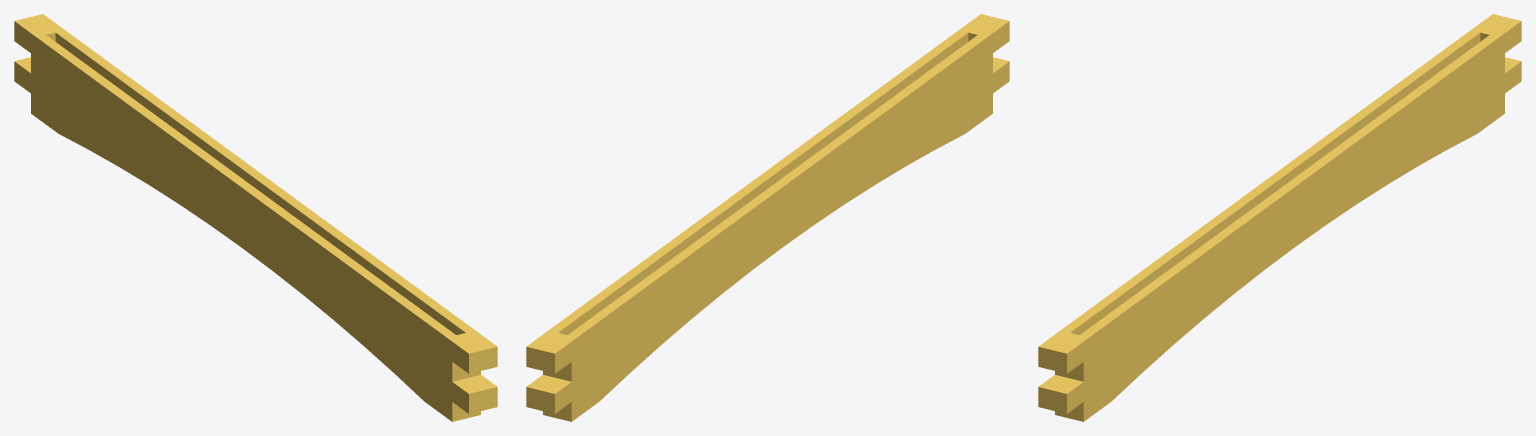
File: original-19.obj
3 views of the same model, side by side, from view 1: azimuth 30°, elevation 25°; view 2: azimuth 150°, elevation 25°; view 3: azimuth 330°, elevation 25° (orthographic).
Parts seen in each view (by area): view 1: side_bottom2/side_bottom/mesh4/mesh4-geometry#mesh4-geometry; view 2: side_bottom2/side_bottom/mesh4/mesh4-geometry#mesh4-geometry; view 3: side_bottom2/side_bottom/mesh4/mesh4-geometry#mesh4-geometry.
Boxes of the visible parts, bbox=[...] form: side_bottom2/side_bottom/mesh4/mesh4-geometry#mesh4-geometry: bbox=[14, 14, 497, 421]; side_bottom2/side_bottom/mesh4/mesh4-geometry#mesh4-geometry: bbox=[526, 14, 1009, 421]; side_bottom2/side_bottom/mesh4/mesh4-geometry#mesh4-geometry: bbox=[1038, 14, 1521, 421].
Size of the model in its own units: 0.0328 by 0.0874 by 0.8958.
